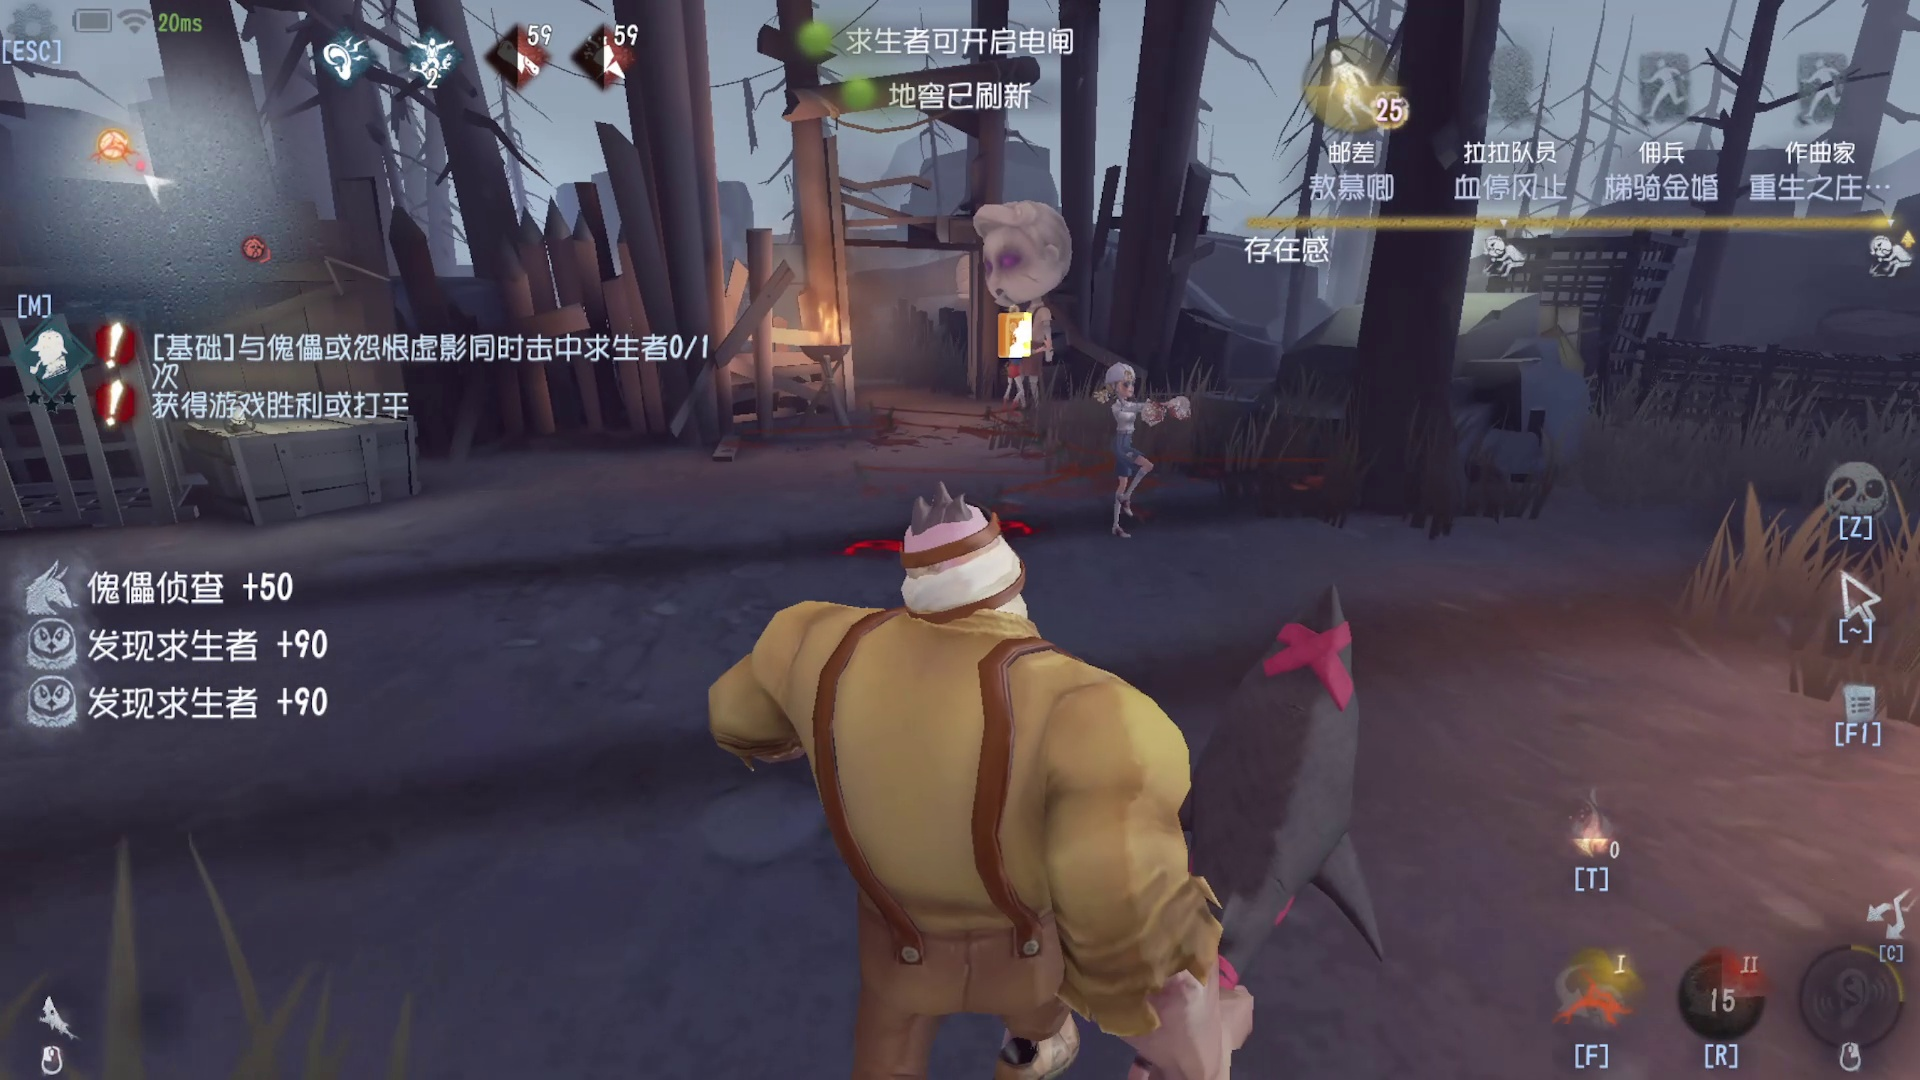技能: (1491, 771, 1648, 920)
求生者: (1083, 356, 1170, 535), (1002, 306, 1051, 417)
设置: (1, 1, 91, 75)
